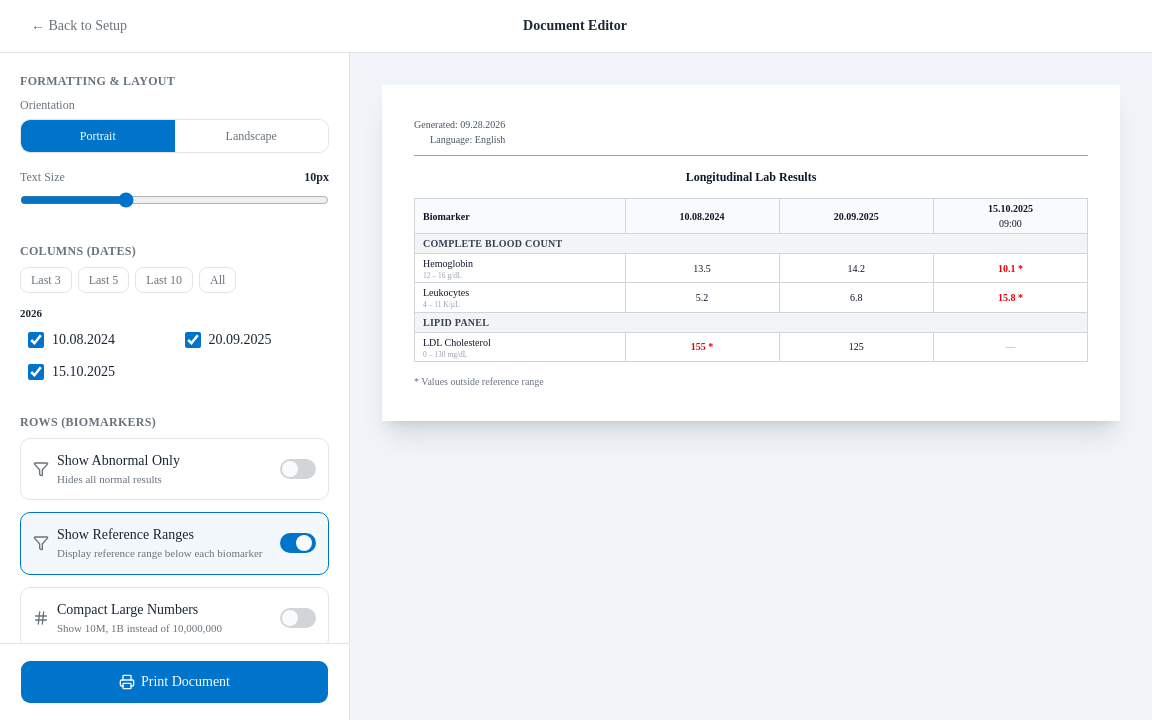
PrintEditor › toggles out-of-range only filter
The width and height of the screenshot is (1152, 720).
Click the button "Show Abnormal Only Hides all normal results" at point(174, 469), box top-left (20, 438), bottom-right (329, 500)
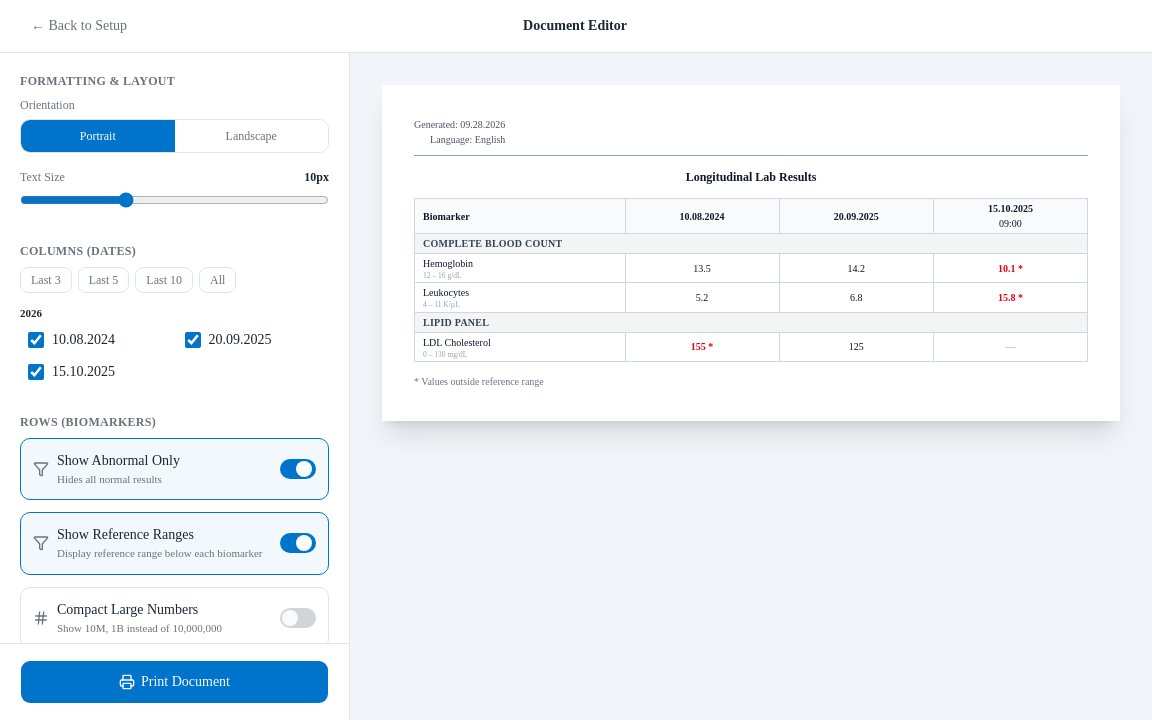
Now the button "Show Abnormal Only Hides all normal results" has class "border-primary", box top-left (20, 438), bottom-right (329, 500)
